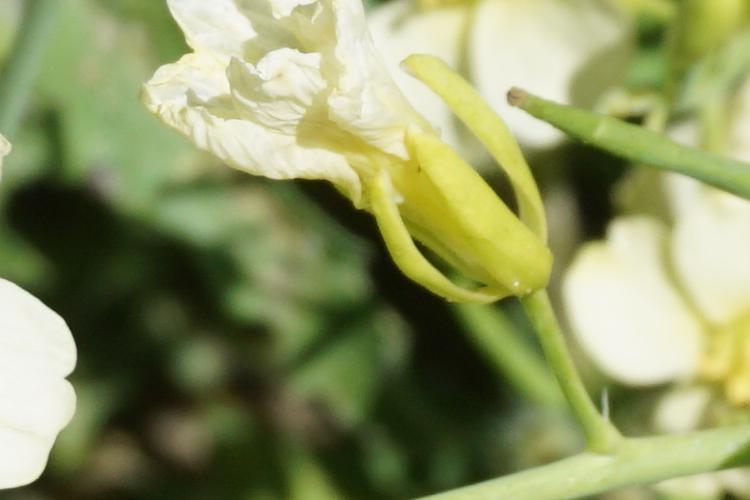pod: (503, 75, 748, 214)
white: (152, 4, 570, 330)
